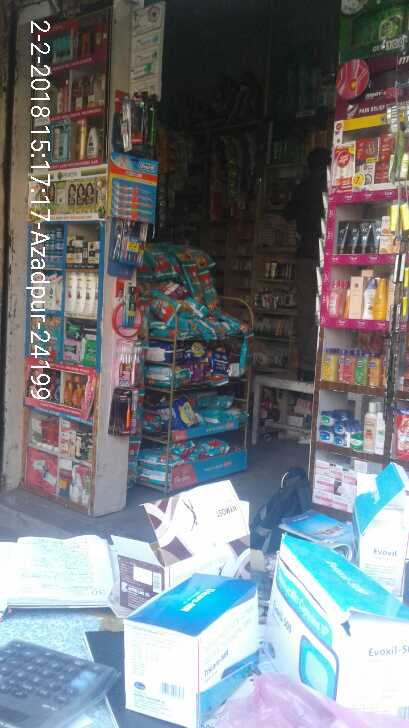oralcare: (112, 156, 159, 219), (111, 222, 153, 267)
